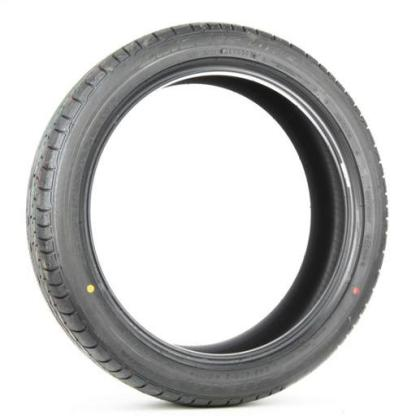Tire: (23, 21, 390, 409)
